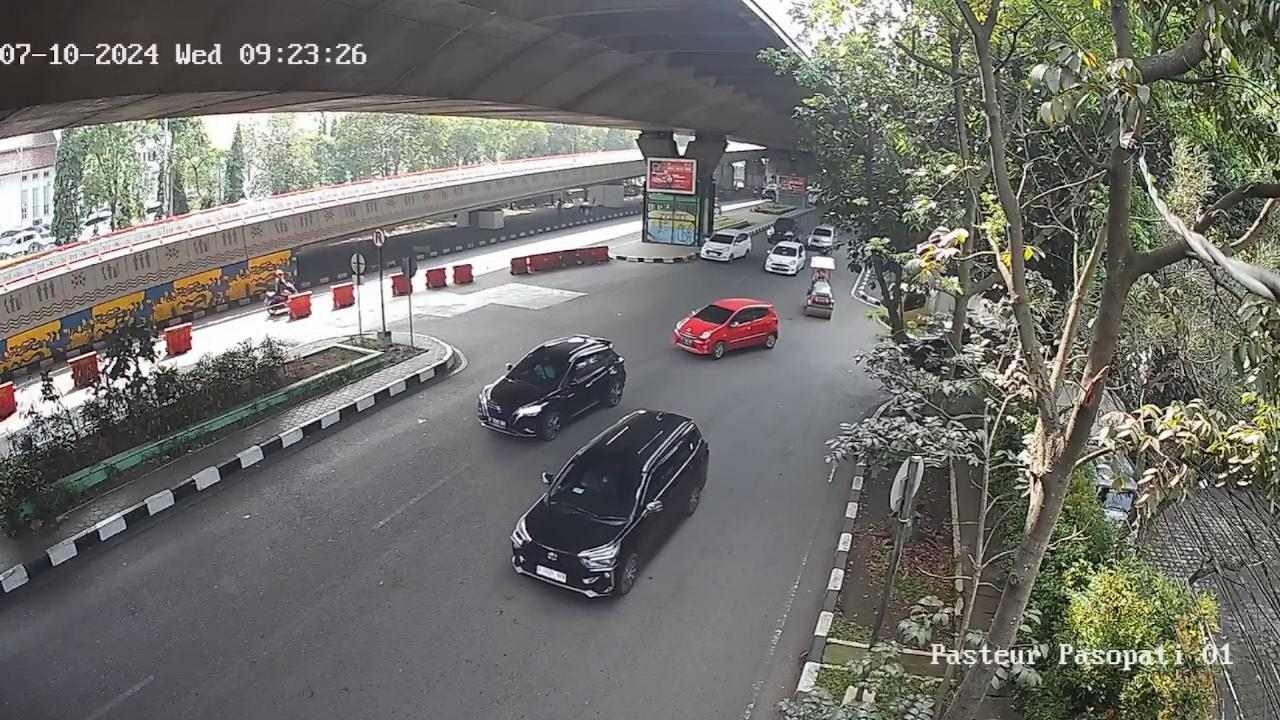pakai: (529, 357, 558, 383)
windshield: (549, 457, 645, 525), (509, 351, 570, 391), (692, 301, 735, 328)
